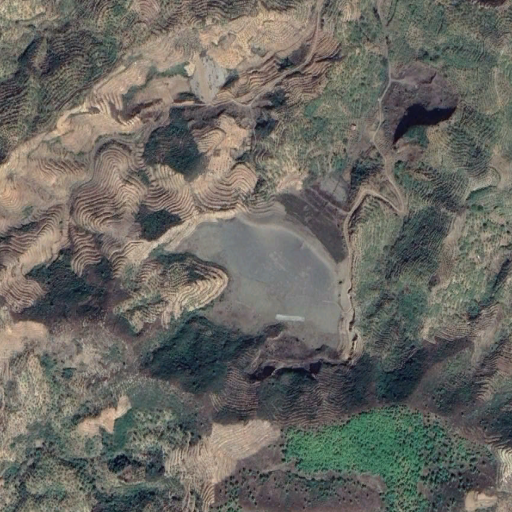tp: (160, 174, 357, 367)
